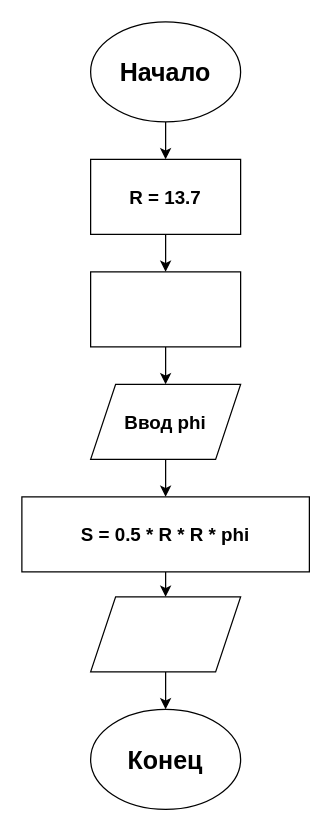
This 331x831 diagram has some shape labels left out. The shapes that lost their labels are listed below. From the top down, each one's centre as x and y in pixels, then its label:
At point 165,309: "Объявление переменных phi, S".
At point 165,634: "Вывод S".
